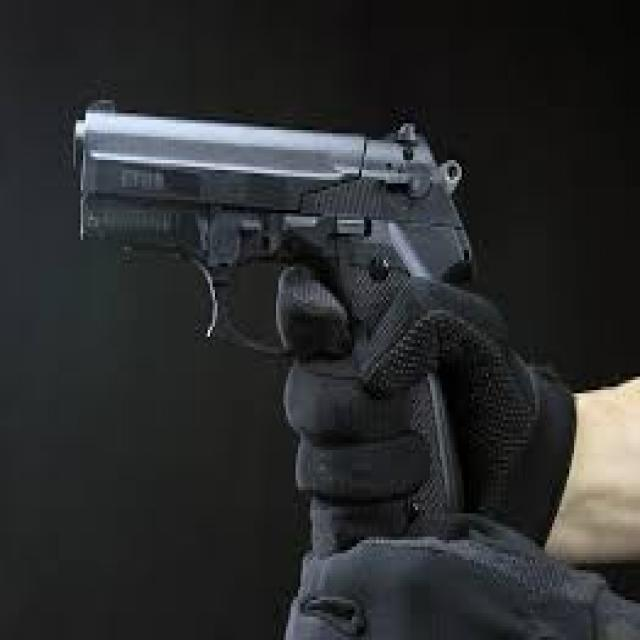semi automatic: (64, 76, 514, 612)
